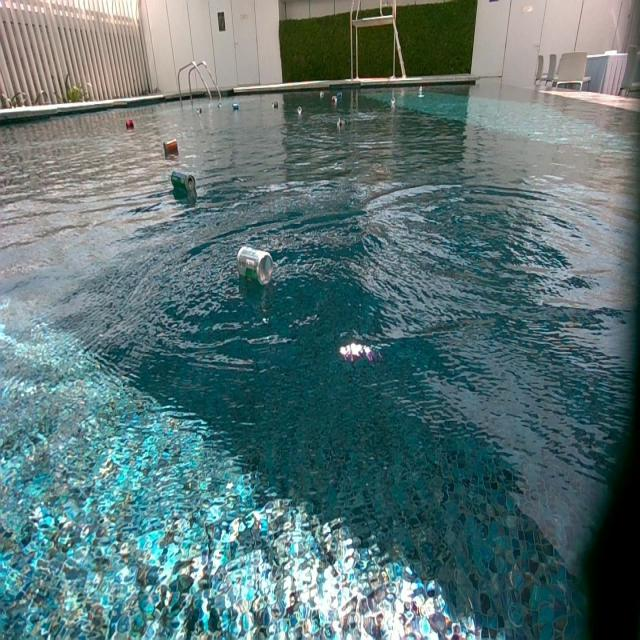Cans: (237, 249, 272, 288), (171, 171, 196, 194), (164, 140, 178, 153), (338, 116, 348, 130), (126, 118, 136, 129), (331, 96, 338, 108), (337, 92, 344, 104), (232, 103, 240, 113), (195, 106, 203, 115), (318, 91, 326, 100), (273, 101, 280, 110), (296, 107, 303, 115), (217, 103, 222, 110)
